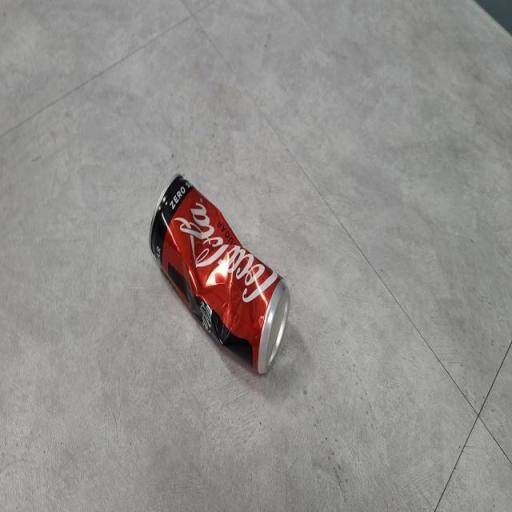metal: (134, 167, 304, 398)
